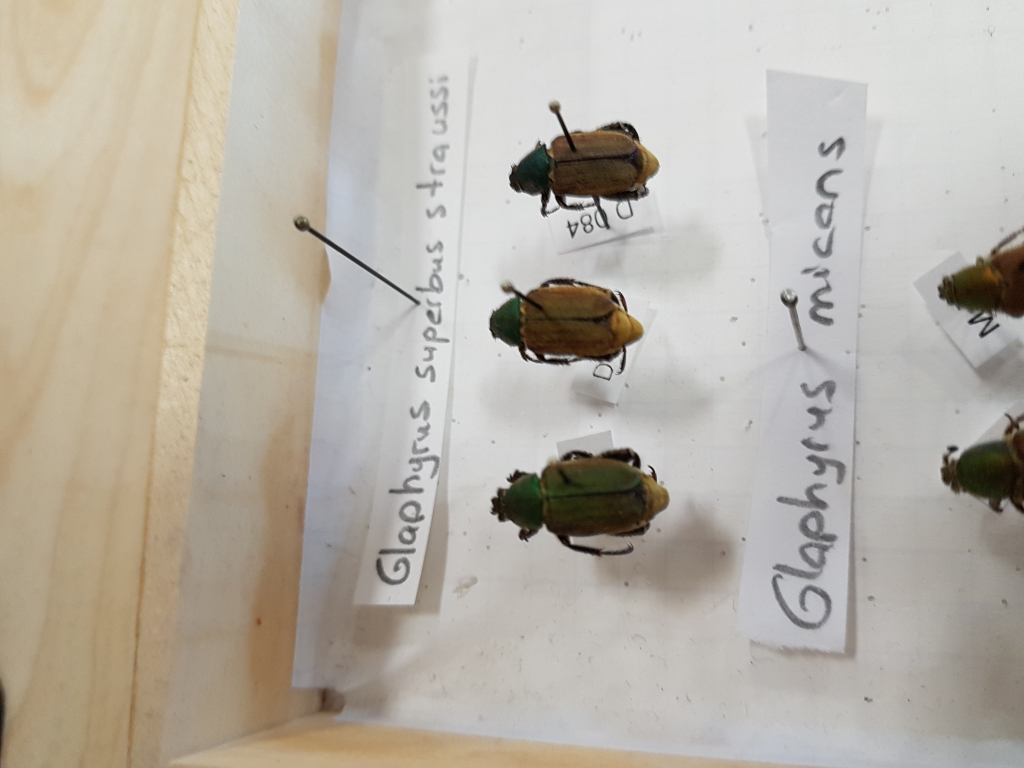Glaphyrus_superbus: (494, 436, 683, 569), (475, 266, 659, 383)
